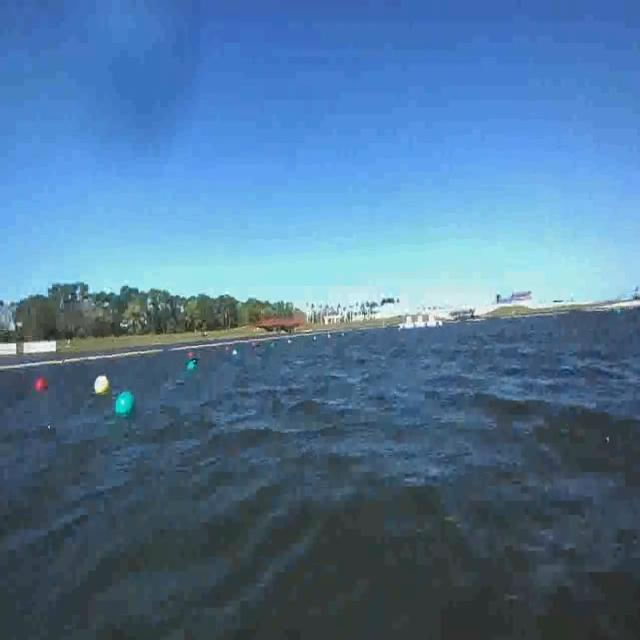green-buoy: (118, 393, 139, 416), (188, 359, 196, 371)
red-buoy: (36, 378, 48, 394)
yellow-buoy: (95, 376, 112, 395)
